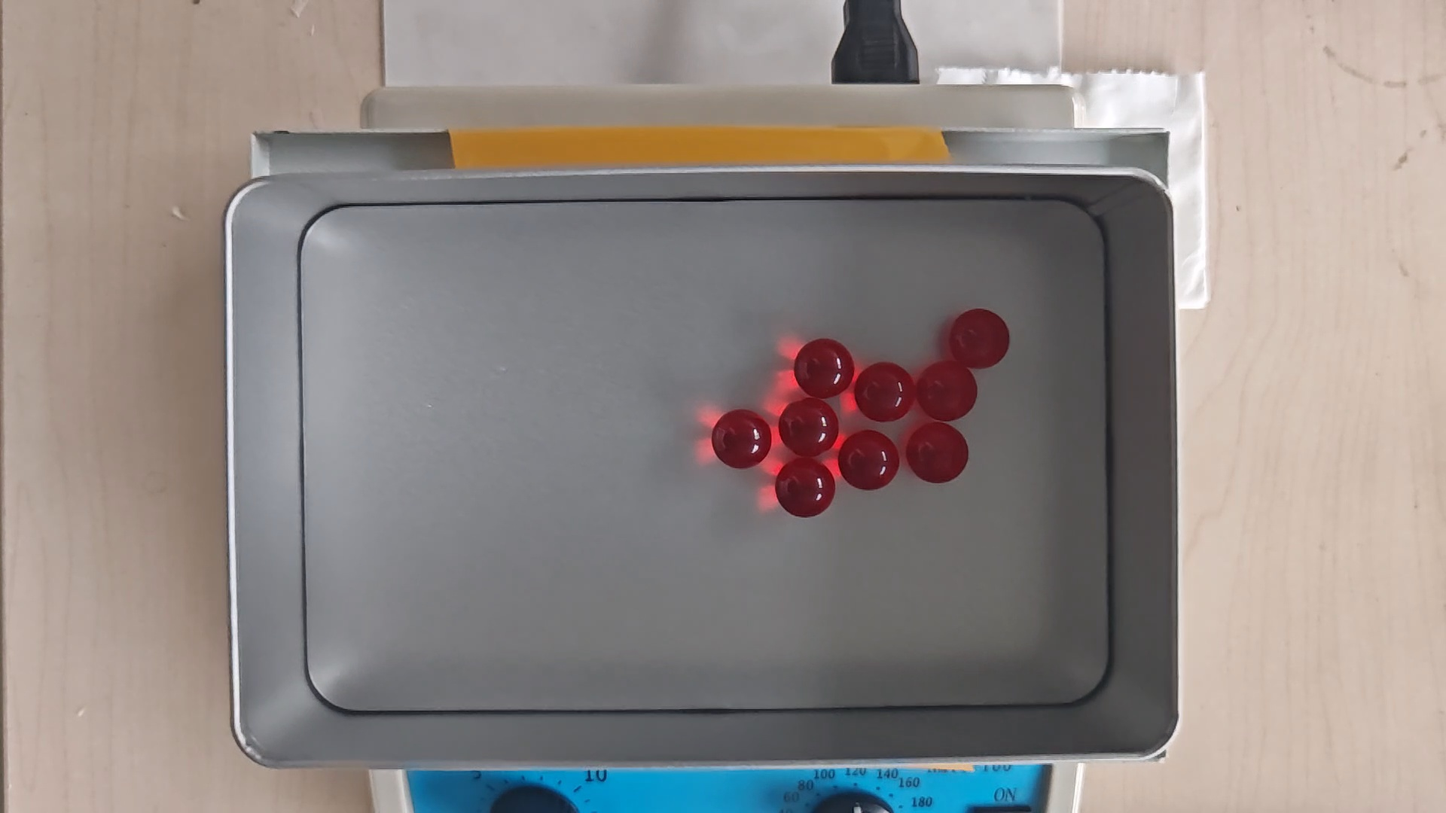ball: (907, 422, 970, 485), (838, 430, 901, 492), (855, 362, 916, 424), (712, 408, 773, 470), (950, 308, 1011, 369), (918, 361, 978, 422), (776, 457, 836, 518), (795, 338, 854, 398), (780, 398, 838, 458)
container: (302, 198, 1109, 711)
